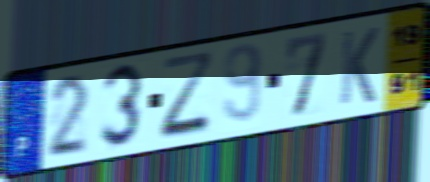2: (46, 72, 92, 161)
3: (95, 60, 149, 153)
7: (284, 29, 330, 122)
9: (222, 41, 265, 133)
K: (337, 24, 382, 108)
Z: (158, 48, 218, 143)
